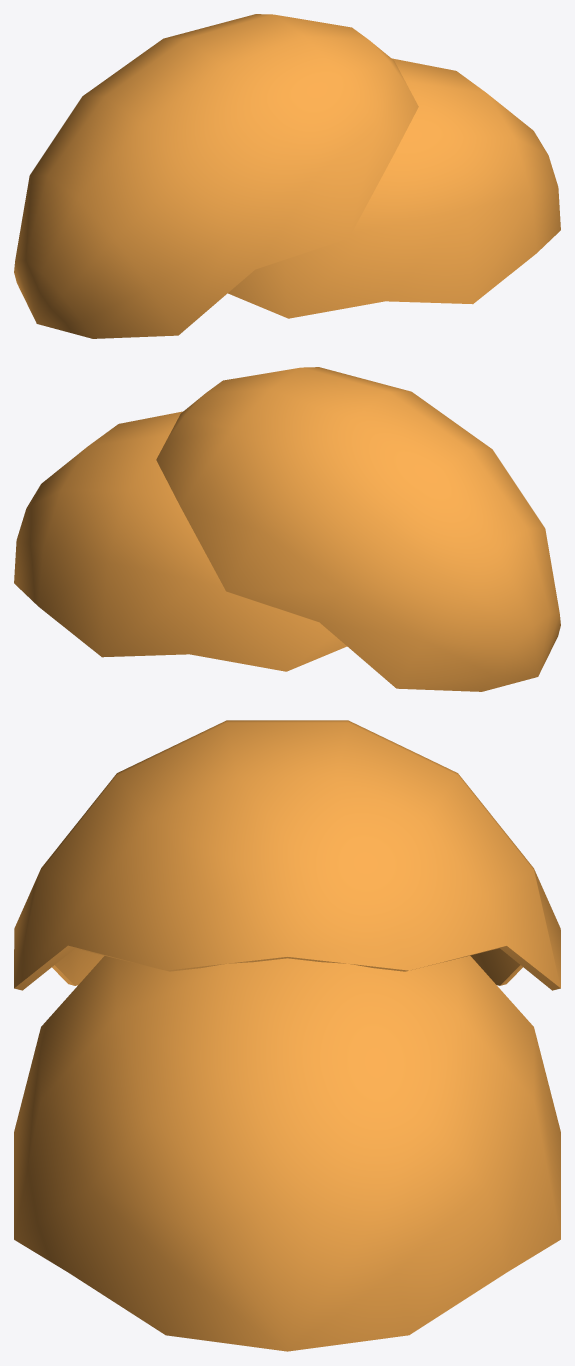
The model's file is Kulit Telor.fbx.
3 renders of one model, top to bottom at view 1: azimuth 30°, elevation 25°; view 2: azimuth 150°, elevation 25°; view 3: azimuth 270°, elevation 25°, orthographic. The views are drawn at different scales.
Visible parts, largest first — view 1: Sphere002; view 2: Sphere002; view 3: Sphere002.
Part boxes in pixels (box(x1,y1,x2,y2)): Sphere002: box(14, 14, 560, 338); Sphere002: box(14, 367, 560, 691); Sphere002: box(14, 720, 560, 1351).
Bounding box in the file's own units: 62.28 × 28.18 × 36.17.
